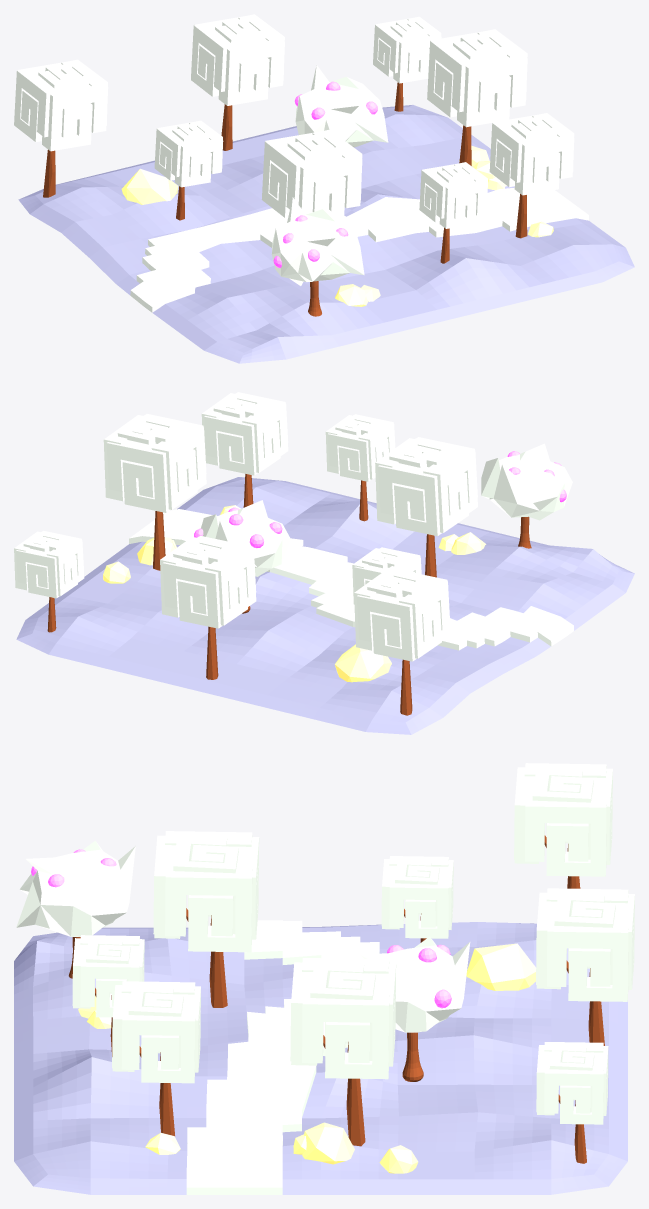
The picture shows the model from 3 angles, top to bottom: view 1: azimuth 30°, elevation 25°; view 2: azimuth 150°, elevation 25°; view 3: azimuth 270°, elevation 25°; orthographic projection. The views are drawn at different scales.
Parts seen in each view (by area): view 1: Cube.050, caminito, Sphere.001, Sphere, Cube.016, Cube.047, Cube.040, Cube.002, Cube.021, Cube.014, Cube.005, Cube.042 (+19 smaller); view 2: Cube.050, caminito, Sphere.001, Cube.017, Cube.004, Cube.048, Cube.039, Sphere, Cube.014, Cube.005, Cube.020, Cube.045 (+25 smaller); view 3: Cube.050, caminito, Sphere.001, Cube.003, Cube.015, Cube.041, Cube.046, Sphere, Cube.022, Cube.034, Cube.009, Sphere.002 (+34 smaller).
Part boxes in pixels (bbox=[...]): Cube.050: bbox=[18, 105, 634, 363]; caminito: bbox=[130, 187, 588, 312]; Sphere.001: bbox=[271, 197, 364, 285]; Sphere: bbox=[295, 65, 388, 147]; Cube.016: bbox=[457, 55, 527, 127]; Cube.047: bbox=[218, 39, 284, 105]; Cube.040: bbox=[42, 84, 108, 151]; Cube.002: bbox=[298, 156, 362, 220]; Cube.021: bbox=[514, 135, 574, 195]; Cube.014: bbox=[427, 38, 479, 117]; Cube.005: bbox=[261, 138, 313, 217]; Cube.042: bbox=[14, 68, 62, 141]; Cube.050: bbox=[16, 477, 634, 734]; caminito: bbox=[129, 509, 573, 650]; Sphere.001: bbox=[481, 443, 572, 520]; Cube.017: bbox=[106, 440, 170, 512]; Cube.004: bbox=[378, 463, 441, 536]; Cube.048: bbox=[162, 560, 222, 628]; Cube.039: bbox=[356, 593, 416, 661]; Sphere: bbox=[201, 500, 290, 576]; Cube.014: bbox=[151, 424, 206, 509]; Cube.005: bbox=[423, 447, 477, 532]; Cube.020: bbox=[204, 414, 257, 475]; Cube.045: bbox=[205, 545, 256, 625]; Cube.050: bbox=[14, 922, 627, 1194]; caminito: bbox=[186, 920, 379, 1194]; Sphere.001: bbox=[16, 840, 135, 936]; Cube.003: bbox=[165, 865, 252, 952]; Cube.015: bbox=[302, 992, 389, 1079]; Cube.041: bbox=[525, 795, 606, 876]; Cube.046: bbox=[547, 920, 628, 1001]; Sphere: bbox=[360, 936, 470, 1032]; Cube.022: bbox=[121, 1010, 195, 1083]; Cube.034: bbox=[544, 1065, 603, 1124]; Cube.009: bbox=[389, 879, 448, 938]; Sphere.002: bbox=[466, 943, 536, 990].
Bounding box in the file's own units: 1712 × 615 × 1682.
